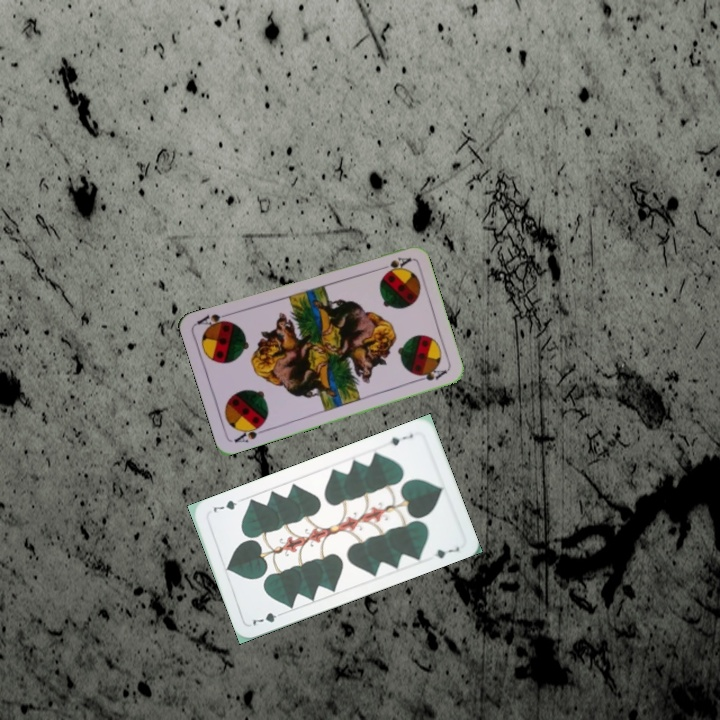G7: (248, 608, 287, 629), (381, 429, 416, 448)
SA: (230, 419, 269, 445), (373, 253, 413, 274)
